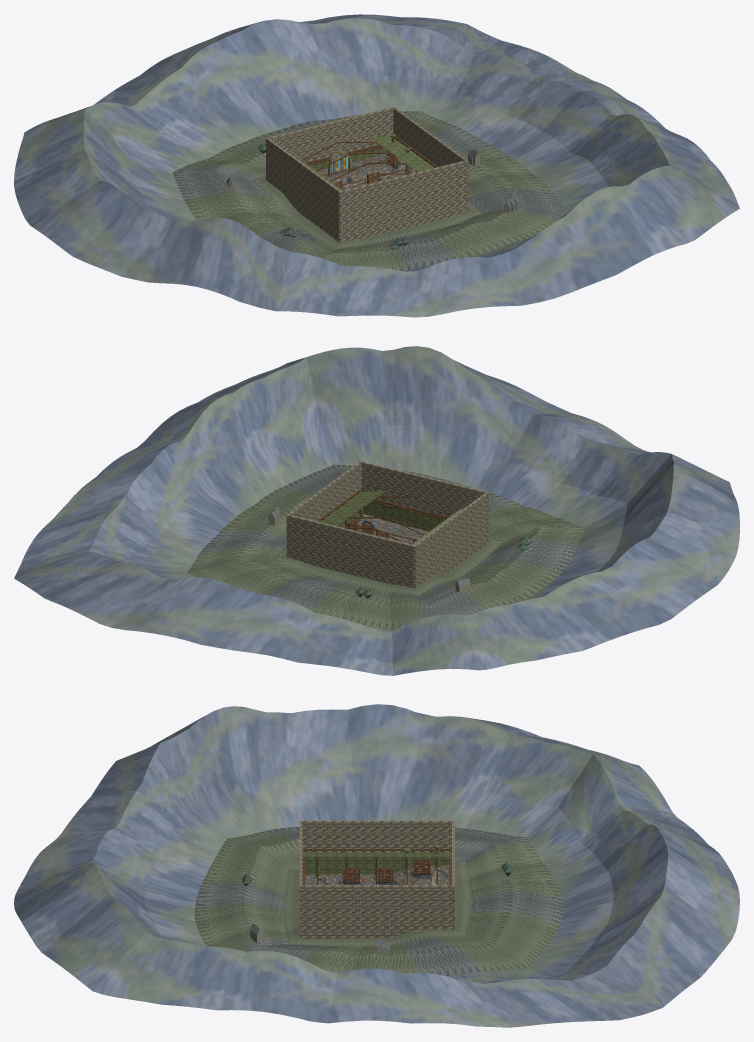
The model's file is FloodLedger.fbx.
3 renders of one model, top to bottom at view 1: azimuth 30°, elevation 25°; view 2: azimuth 150°, elevation 25°; view 3: azimuth 270°, elevation 25°, orthographic. The views are drawn at different scales.
Visible parts, largest first — view 1: Surroundings, C_Solids, Rim, Terrain, Set; view 2: Surroundings, C_Solids, Rim, Terrain; view 3: Surroundings, C_Solids, Rim, Terrain, Set.
Boxes of the visible parts, box(x1,y1,x2,y2) form: Surroundings: box(14, 14, 739, 317); C_Solids: box(266, 106, 468, 242); Rim: box(292, 136, 437, 190); Terrain: box(317, 151, 415, 190); Set: box(328, 133, 411, 189); Surroundings: box(14, 346, 739, 675); C_Solids: box(286, 461, 488, 588); Rim: box(317, 488, 462, 544); Terrain: box(343, 514, 428, 544); Surroundings: box(14, 704, 739, 1027); C_Solids: box(299, 820, 454, 938); Rim: box(302, 849, 451, 884); Terrain: box(305, 865, 449, 884); Set: box(314, 845, 440, 884).
Size of the model in its own units: 19041 by 2916 by 19439.
